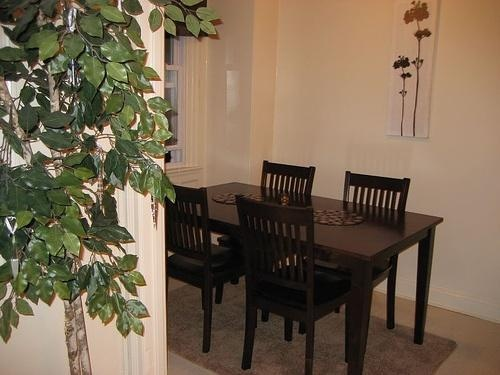chair: (232, 191, 357, 372), (168, 182, 266, 350), (342, 169, 412, 331), (261, 159, 316, 196)
diningtable: (171, 183, 445, 375)
pottedplant: (1, 1, 221, 374)
